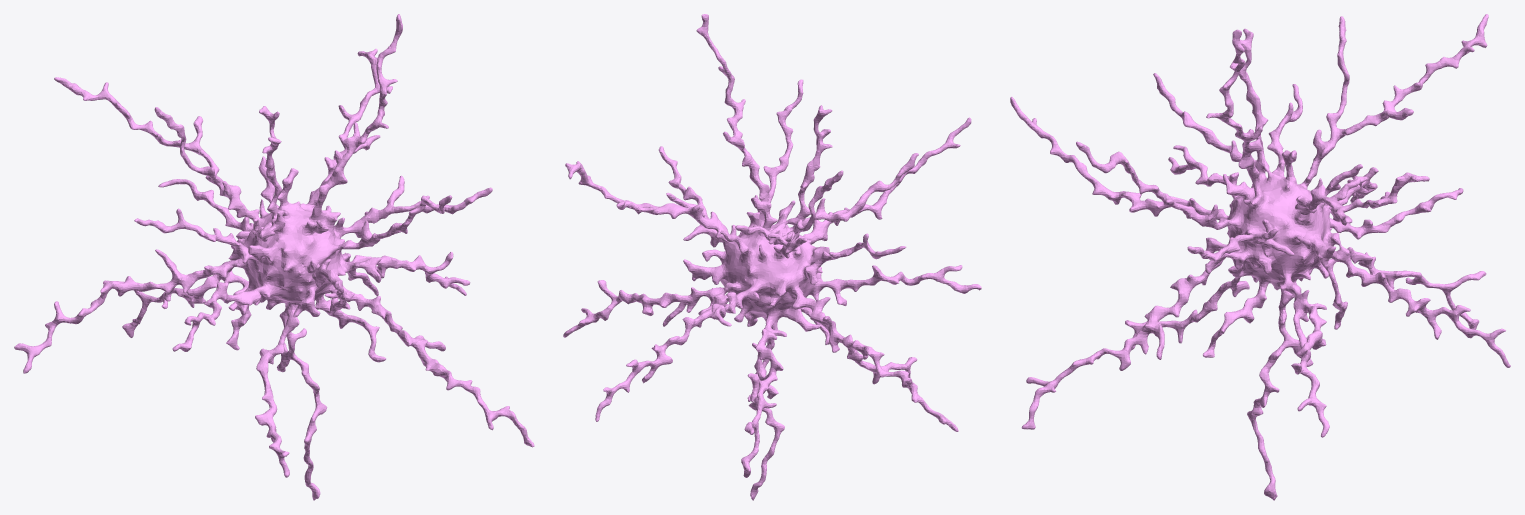
The model's file is virus.gltf.
The picture shows the model from 3 angles, left to right: view 1: azimuth 30°, elevation 25°; view 2: azimuth 150°, elevation 25°; view 3: azimuth 270°, elevation 25°; orthographic projection. The views are drawn at different scales.
Parts seen in each view (by area): view 1: geo1; view 2: geo1; view 3: geo1.
Part boxes in pixels (x1,y1,x2,y2): geo1: (14,14,534,500); geo1: (563,14,981,500); geo1: (1010,14,1510,500).
Bounding box in the file's own units: 5.22 × 5.6 × 5.03.
